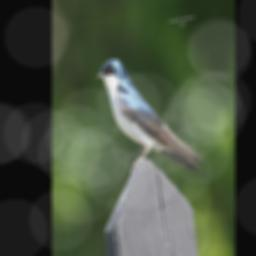Swallow: (95, 43, 205, 190)
